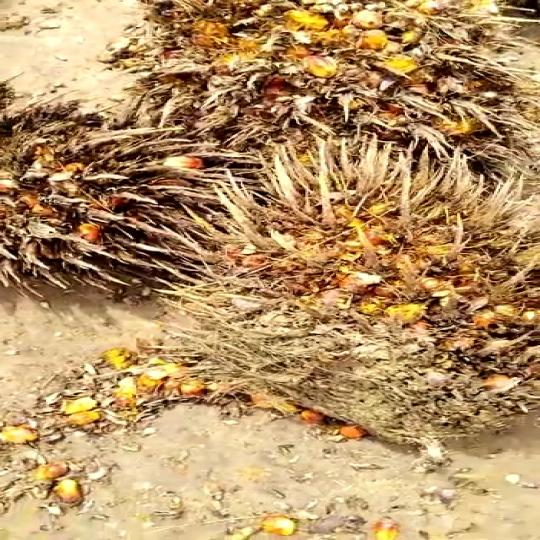terlalu masak: (156, 149, 538, 435), (126, 0, 522, 148)
